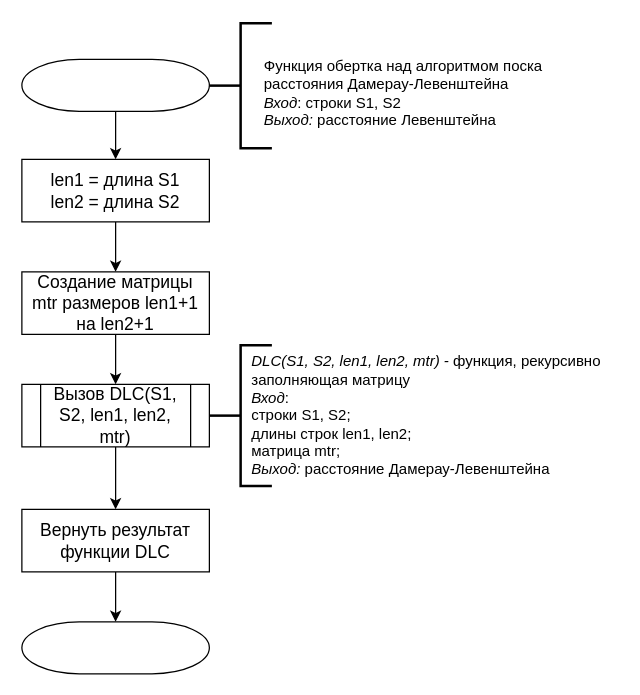
The diagram is 640 pixels wide and 695 high, and some of its shapes have lost their labels. The box of each missing label's shape, as (x1, y1, x2, y2) in pixels:
Конец: (21, 621, 209, 674)
Начало: (21, 58, 209, 111)
